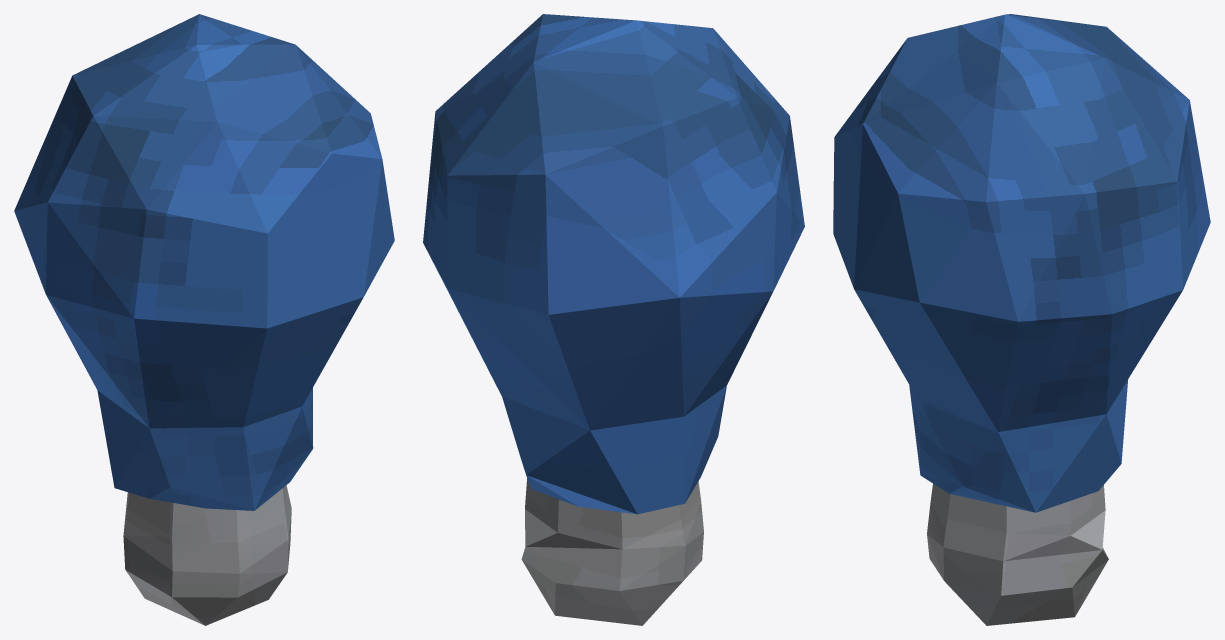
Rendered from item_ticket_machine_bulb_blue.glb.
The picture shows the model from 3 angles, left to right: view 1: azimuth 30°, elevation 25°; view 2: azimuth 150°, elevation 25°; view 3: azimuth 270°, elevation 25°; orthographic projection. The views are drawn at different scales.
Visible parts, largest first — view 1: lightbulb_submesh_0, lightbulb_submesh_1; view 2: lightbulb_submesh_0, lightbulb_submesh_1; view 3: lightbulb_submesh_0, lightbulb_submesh_1.
Part boxes in pixels (x1,y1,x2,y2): lightbulb_submesh_0: (14,14,394,510); lightbulb_submesh_1: (123,485,291,625); lightbulb_submesh_0: (423,14,804,514); lightbulb_submesh_1: (521,478,703,625); lightbulb_submesh_0: (833,14,1210,512); lightbulb_submesh_1: (927,483,1108,625).
Size of the model in its own units: 0.2249 by 0.3754 by 0.2215.
Materials: 2 (2 with a texture image).
